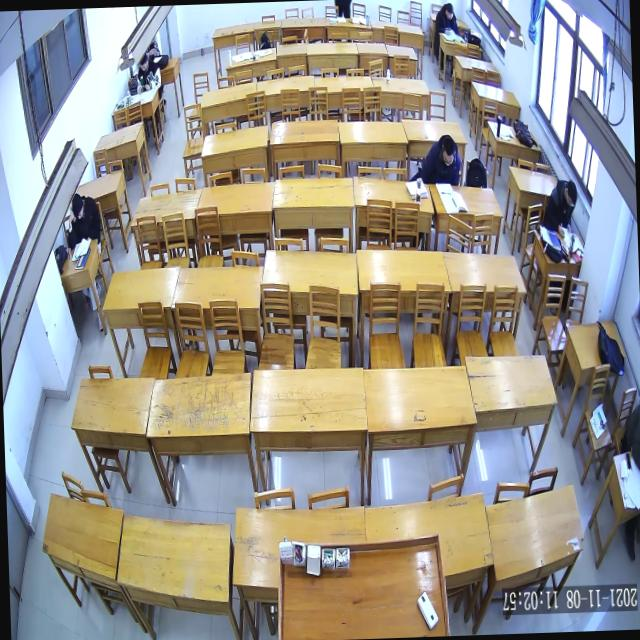down: (440, 134, 457, 170), (70, 192, 85, 222), (564, 178, 578, 209), (444, 1, 455, 21), (138, 52, 148, 72)
sit: (418, 132, 462, 188), (541, 178, 580, 240), (64, 189, 102, 250), (134, 49, 162, 94), (432, 0, 460, 37)
